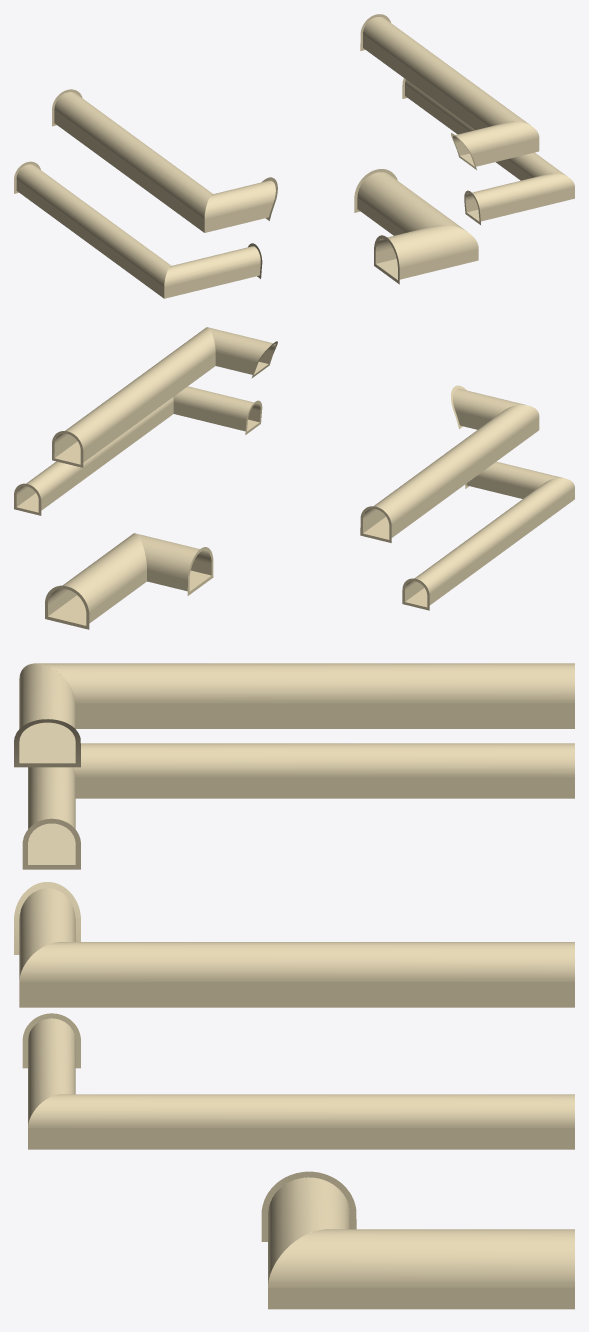
The model's file is lcorridors-decimated-smoothed.FBX.
3 renders of one model, top to bottom at view 1: azimuth 30°, elevation 25°; view 2: azimuth 150°, elevation 25°; view 3: azimuth 270°, elevation 25°, orthographic. The views are drawn at different scales.
Visible parts, largest first — view 1: lcorridors-decimated-smoothed; view 2: lcorridors-decimated-smoothed; view 3: lcorridors-decimated-smoothed.
Boxes of the visible parts, box(x1,y1,x2,y2) form: lcorridors-decimated-smoothed: box(14, 14, 574, 298); lcorridors-decimated-smoothed: box(14, 327, 574, 629); lcorridors-decimated-smoothed: box(14, 663, 574, 1309).
Bounding box in the file's own units: 4110 × 2595 × 1825.
